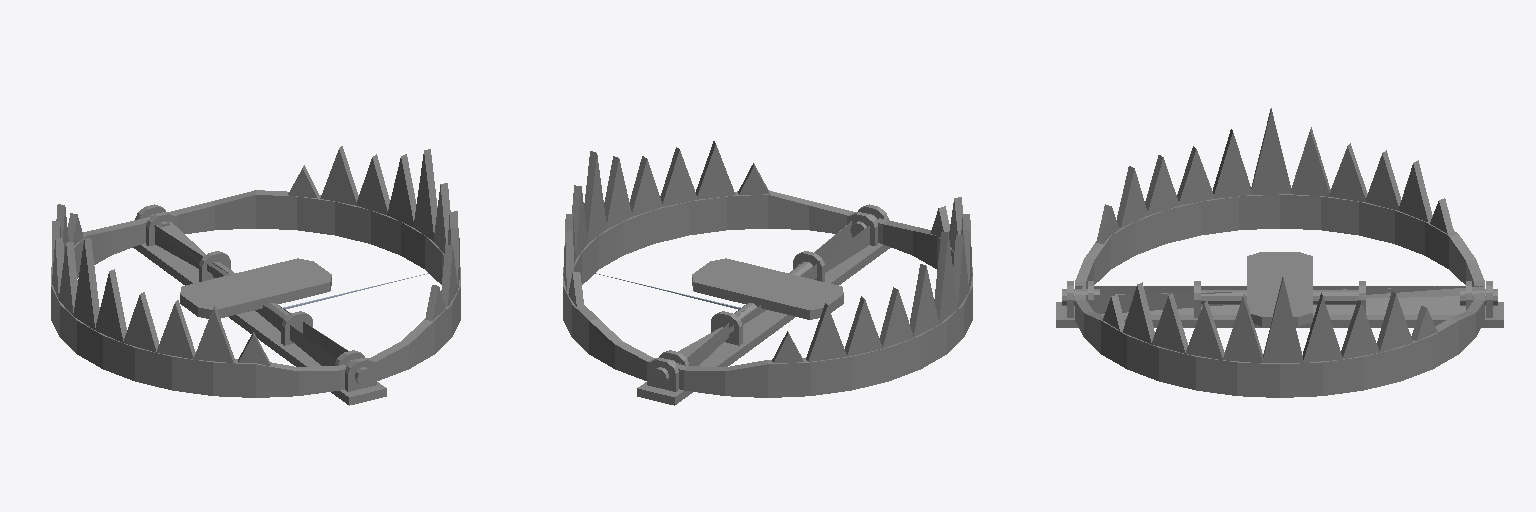
File: Trap.obj
The picture shows the model from 3 angles: view 1: azimuth 30°, elevation 25°; view 2: azimuth 150°, elevation 25°; view 3: azimuth 270°, elevation 25°; orthographic projection.
Parts seen in each view (by area): view 1: AP_BearTrap_SKEL; view 2: AP_BearTrap_SKEL; view 3: AP_BearTrap_SKEL.
Boxes of the visible parts, x1=… form: AP_BearTrap_SKEL: x1=51, y1=146, x2=460, y2=405; AP_BearTrap_SKEL: x1=563, y1=141, x2=972, y2=405; AP_BearTrap_SKEL: x1=1056, y1=108, x2=1503, y2=397.
Bounding box in the file's own units: 94.17 × 31.89 × 102.